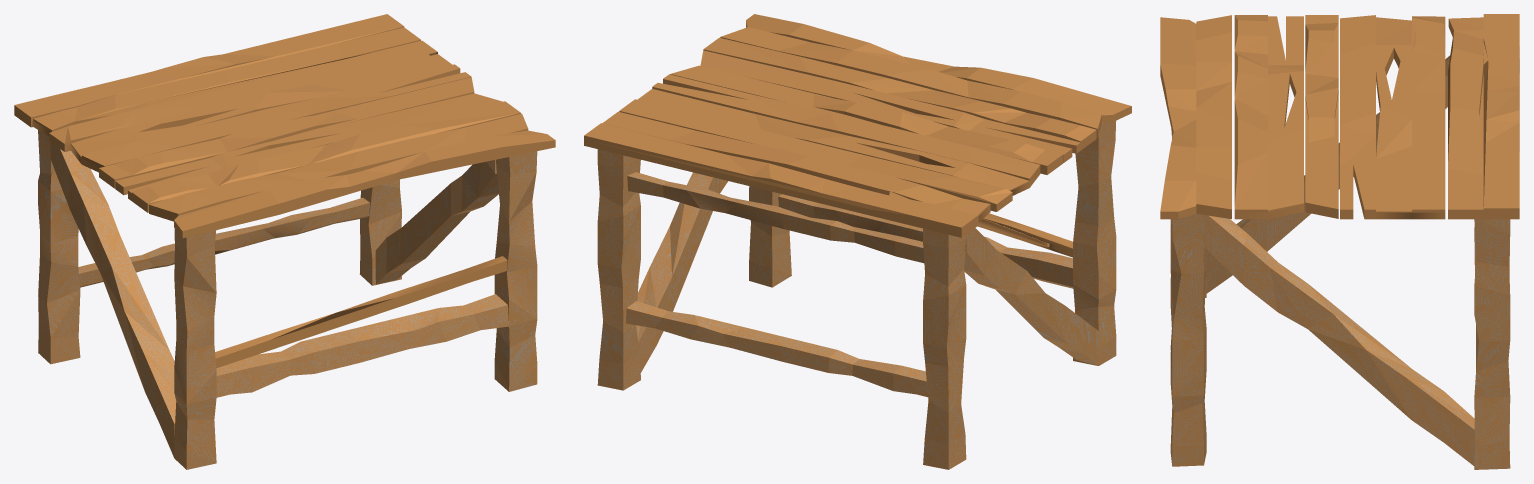
The model's file is Fund8.fbx.
The picture shows the model from 3 angles, left to right: view 1: azimuth 30°, elevation 25°; view 2: azimuth 150°, elevation 25°; view 3: azimuth 270°, elevation 25°; orthographic projection. The views are drawn at different scales.
Visible parts, largest first — view 1: Mostki1, G_54_2, G_28_1, Stolb4, Stolb2, Stolb3, G_54_1, G_17_1, G_28_2, Stolb1; view 2: Mostki1, Stolb3, Stolb1, Stolb4, G_28_2, G_54_2, G_28_3, G_54_1, G_28_1, Stolb2, G_17_1; view 3: Mostki1, G_54_1, Stolb1, Stolb2, G_54_2.
Boxes of the visible parts, bbox=[...] form: Mostki1: bbox=[14, 14, 555, 238]; G_54_2: bbox=[50, 142, 176, 457]; G_28_1: bbox=[216, 294, 508, 397]; Stolb4: bbox=[174, 228, 216, 469]; Stolb2: bbox=[494, 151, 537, 391]; Stolb3: bbox=[38, 130, 80, 364]; G_54_1: bbox=[375, 159, 498, 284]; G_17_1: bbox=[215, 256, 507, 368]; G_28_2: bbox=[78, 197, 370, 287]; Stolb1: bbox=[360, 179, 401, 285]; Mostki1: bbox=[584, 14, 1131, 237]; Stolb3: bbox=[923, 228, 966, 469]; Stolb1: bbox=[597, 149, 640, 390]; Stolb4: bbox=[1073, 121, 1116, 365]; G_28_2: bbox=[626, 301, 927, 397]; G_54_2: bbox=[964, 228, 1098, 365]; G_28_3: bbox=[627, 172, 924, 263]; G_54_1: bbox=[636, 172, 728, 372]; G_28_1: bbox=[778, 194, 1073, 288]; Stolb2: bbox=[749, 186, 791, 287]; G_17_1: bbox=[977, 213, 1072, 257]; Mostki1: bbox=[1160, 14, 1519, 219]; G_54_1: bbox=[1203, 215, 1474, 465]; Stolb1: bbox=[1474, 219, 1510, 469]; Stolb2: bbox=[1170, 213, 1206, 466]; G_54_2: bbox=[1206, 55, 1449, 293].
Bounding box in the file's own units: 1920 × 1230 × 1500.
